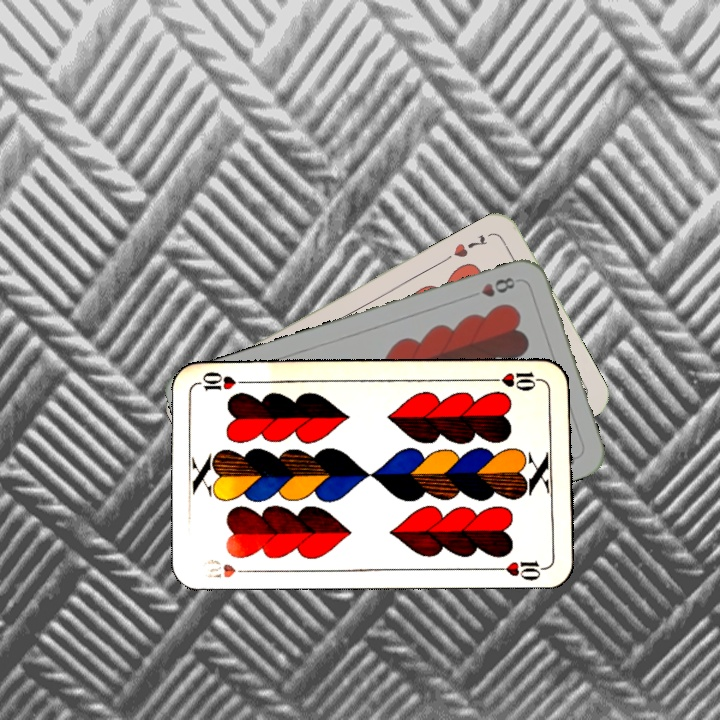H10: (486, 367, 545, 393), (200, 555, 256, 581)
H7: (449, 230, 490, 260)
H8: (464, 273, 518, 301)
